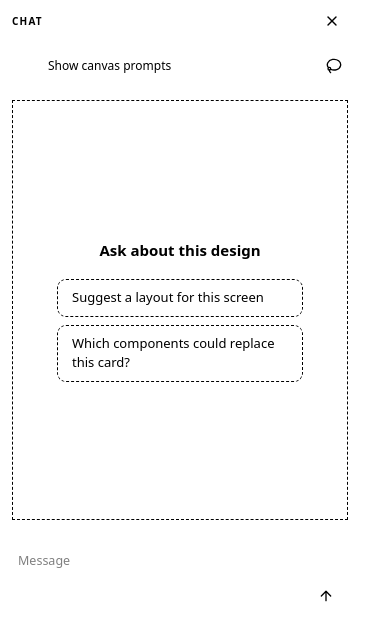
ChatPanel › Enter sends the message; it appears in the log and the assistant reply follows
In the text box labelled "Message": (161, 580) [18, 548, 304, 612], type "Hello there"
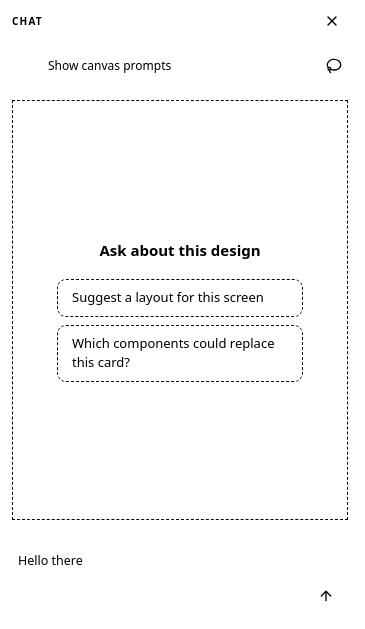
Press Enter
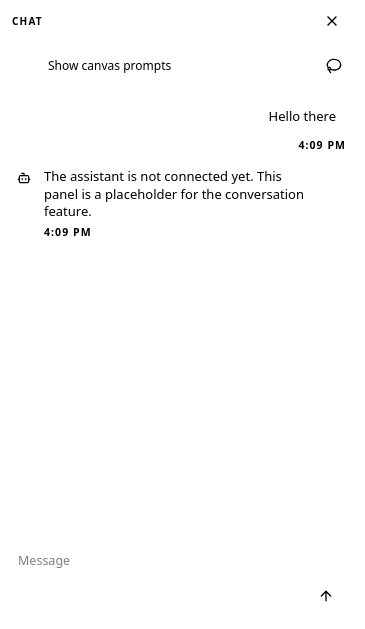
Expected: the element that starts with "Hello there" is shown, [269, 107, 336, 125]
Expected: the text "The assistant is not connected yet. This panel is a placeholder for the conversation feature." is shown, [44, 167, 307, 220]
